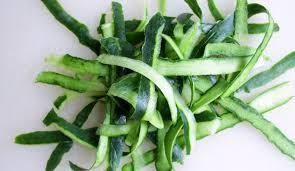Organic: (4, 1, 295, 171)
